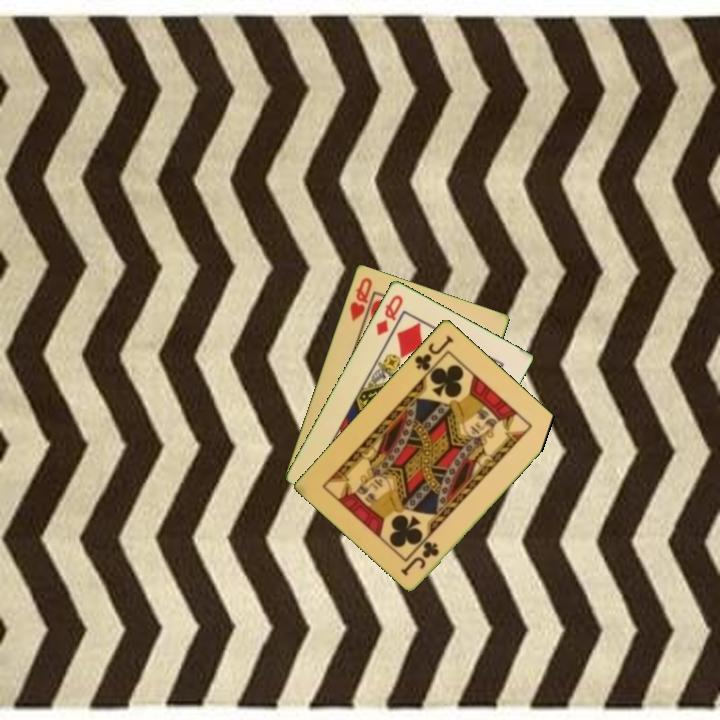Jc: (411, 331, 456, 373), (398, 537, 442, 578)
Qd: (372, 291, 406, 338)
Qh: (346, 273, 375, 324)
